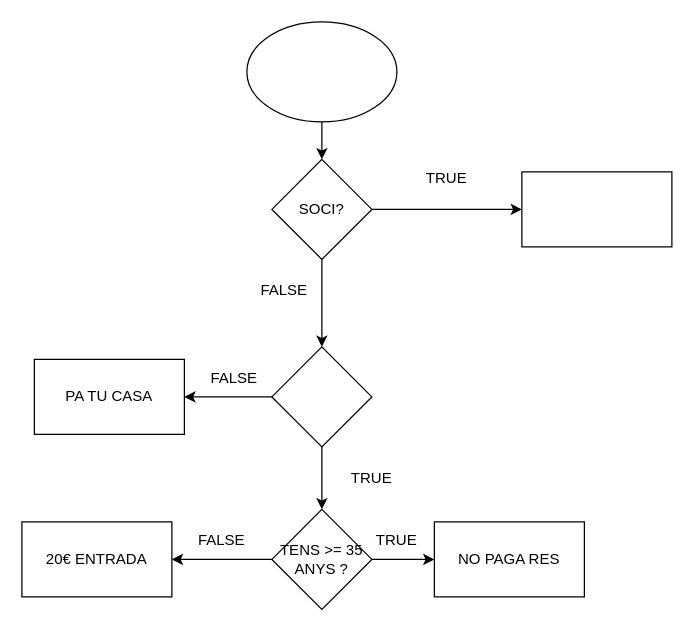
Some shapes in this 694 by 631 pixel diagram are drawn without their labels. The shapes that lost their labels are listed below. From the top down, each one's centre as x and y in pixels, then its label:
pixel 321 71: ENTRADA
pixel 596 209: ENTRA I NO PAGA RES
pixel 321 396: TENS >=18 ?
